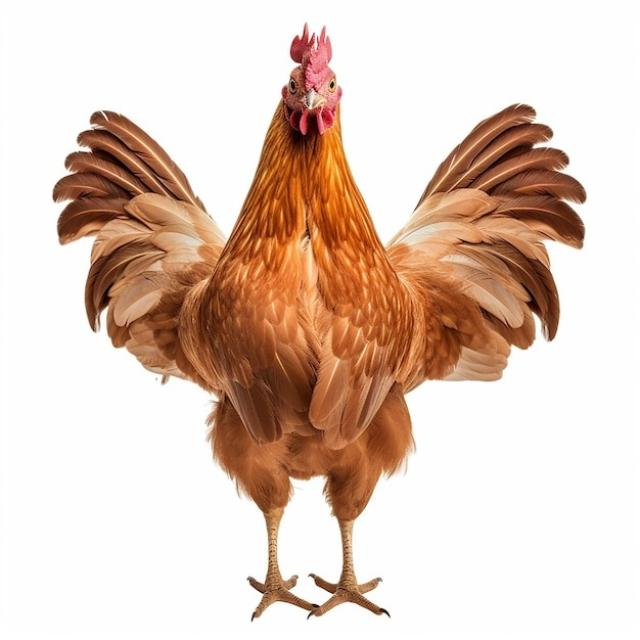Chicken: (51, 21, 588, 618)
